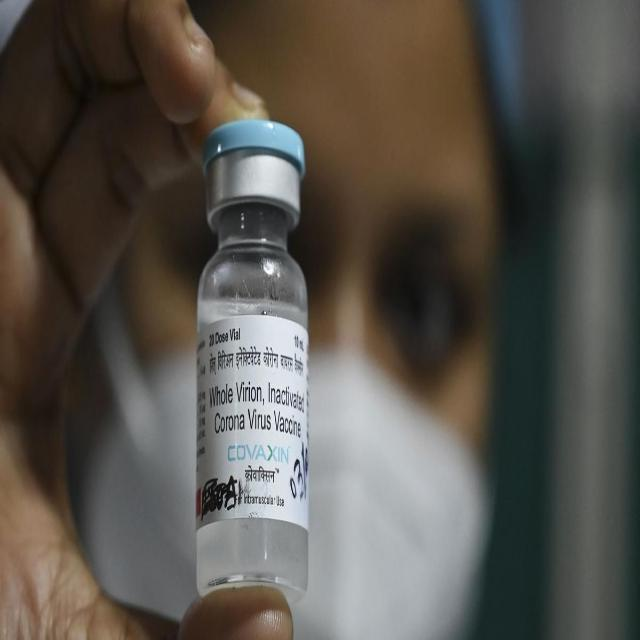B3: (189, 105, 313, 602)
